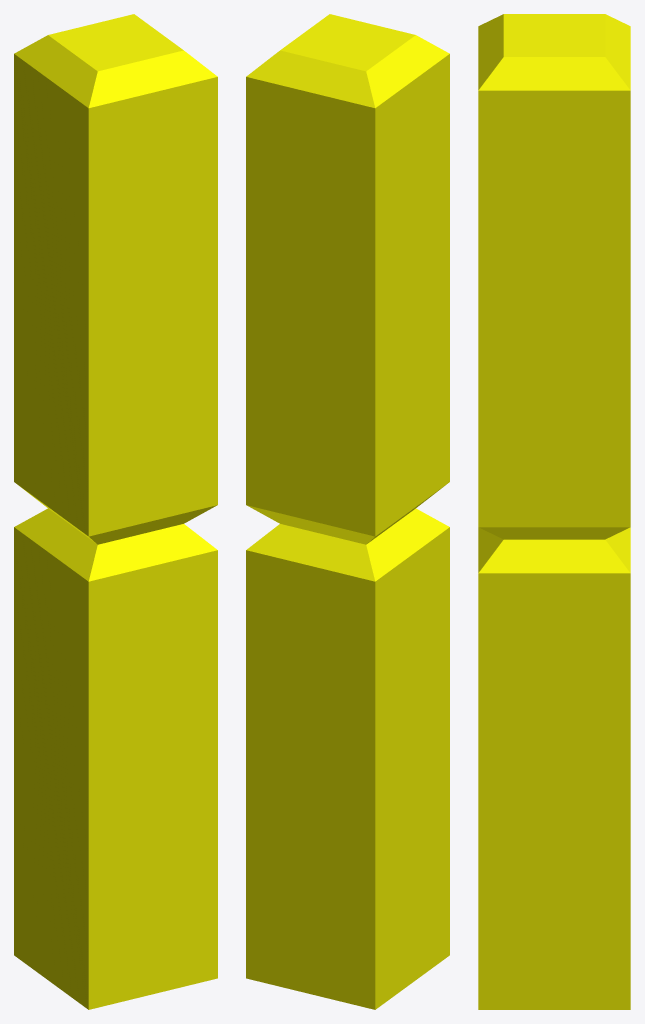
Rendered from pillar_A.gltf.
The picture shows the model from 3 angles, left to right: view 1: azimuth 30°, elevation 25°; view 2: azimuth 150°, elevation 25°; view 3: azimuth 270°, elevation 25°; orthographic projection.
Parts seen in each view (by area): view 1: pillar_A; view 2: pillar_A; view 3: pillar_A.
Boxes of the visible parts, box(x1,y1,x2,y2) form: pillar_A: box(14, 14, 217, 1009); pillar_A: box(246, 14, 449, 1009); pillar_A: box(478, 14, 630, 1009).
Size of the model in its own units: 0.6 by 4.1 by 0.6.
Materials: 1 (1 with a texture image).
